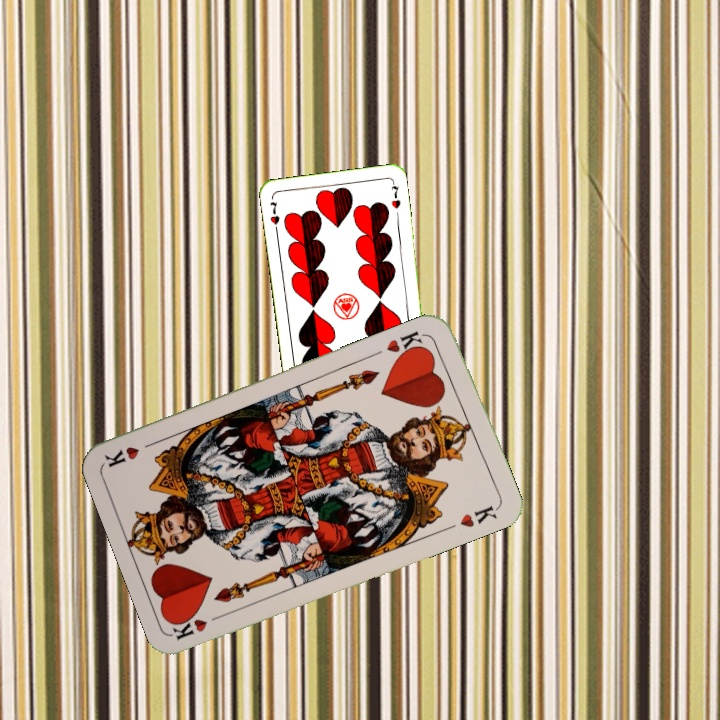H7: (266, 197, 282, 235)
HK: (168, 609, 228, 643), (382, 326, 431, 362)
